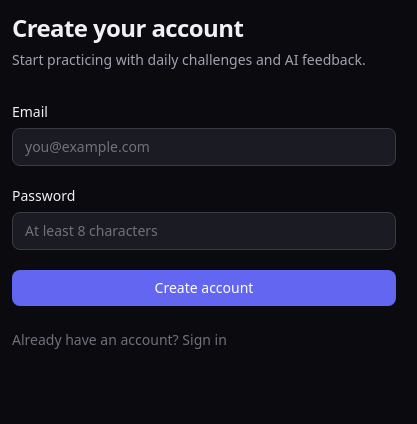
AuthForm sign-up › asks for email confirmation when no session is returned
Type "dev@example.com" into the field labelled "Email". click: (204, 147)
box: [12, 128, 396, 166]
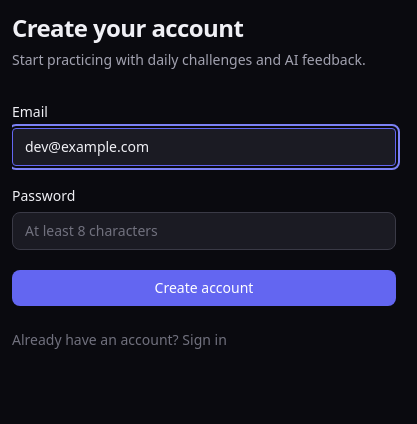
Type "password123" into the password field labelled "Password". click: (204, 231)
box: [12, 212, 396, 250]
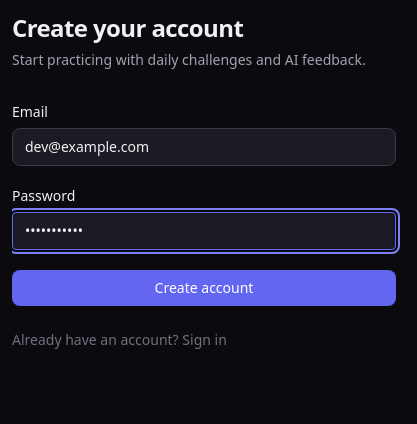
Click the button "Create account". click: click(204, 288)
box: [12, 270, 396, 306]
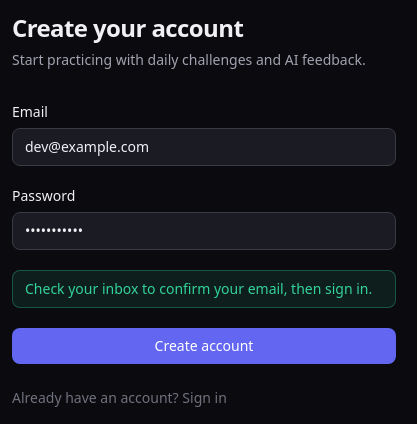
Expected: the text "Check your inbox to confirm your email, then sign in." is shown, [12, 270, 396, 308]
